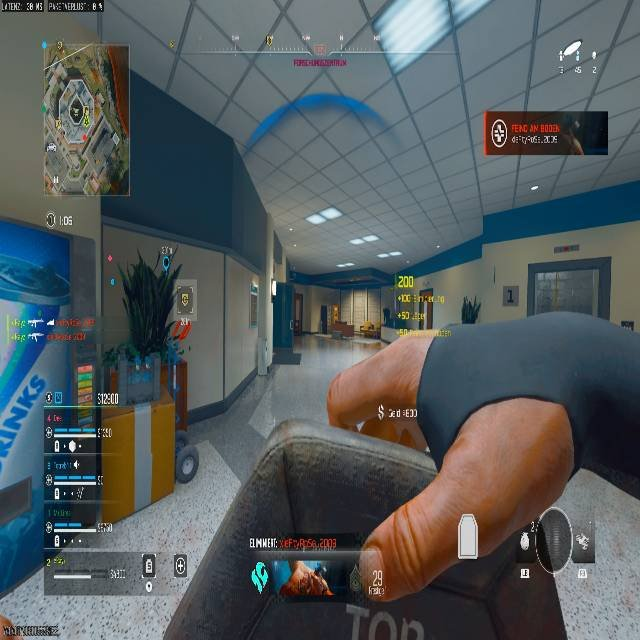player: (279, 562, 331, 599), (359, 321, 378, 338)
